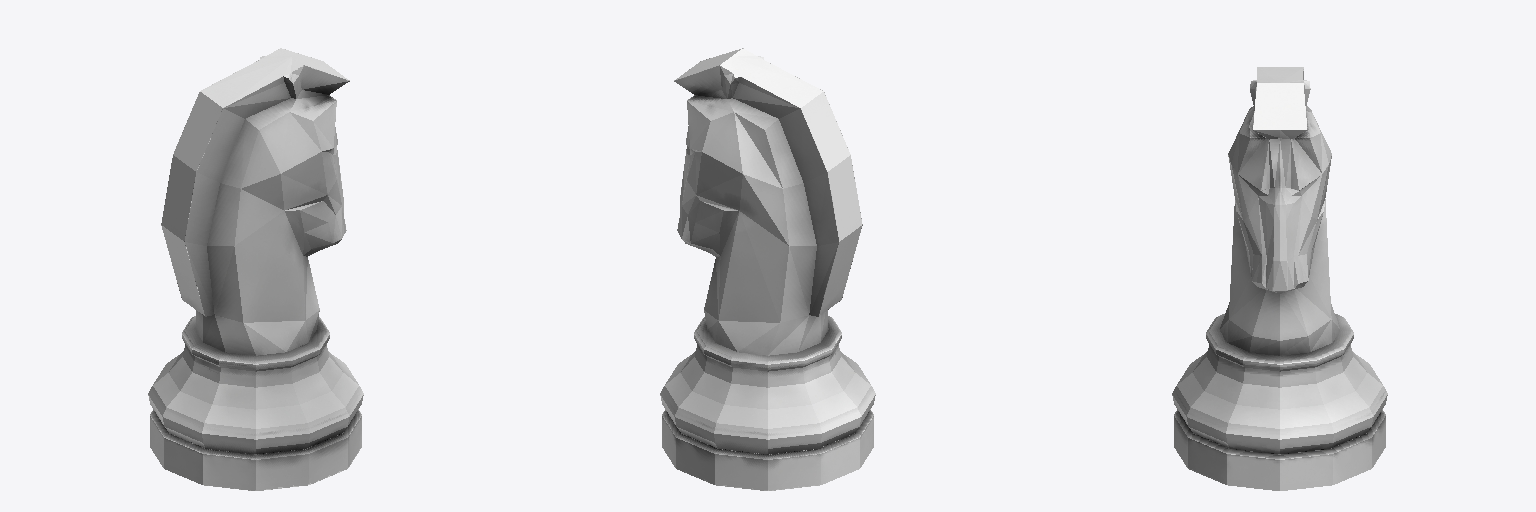
3 views of the same model, side by side, from view 1: azimuth 30°, elevation 25°; view 2: azimuth 150°, elevation 25°; view 3: azimuth 270°, elevation 25° (orthographic).
Size of the model in its own units: 13.5 by 26.24 by 13.5.
Materials: 1 (1 with a texture image).